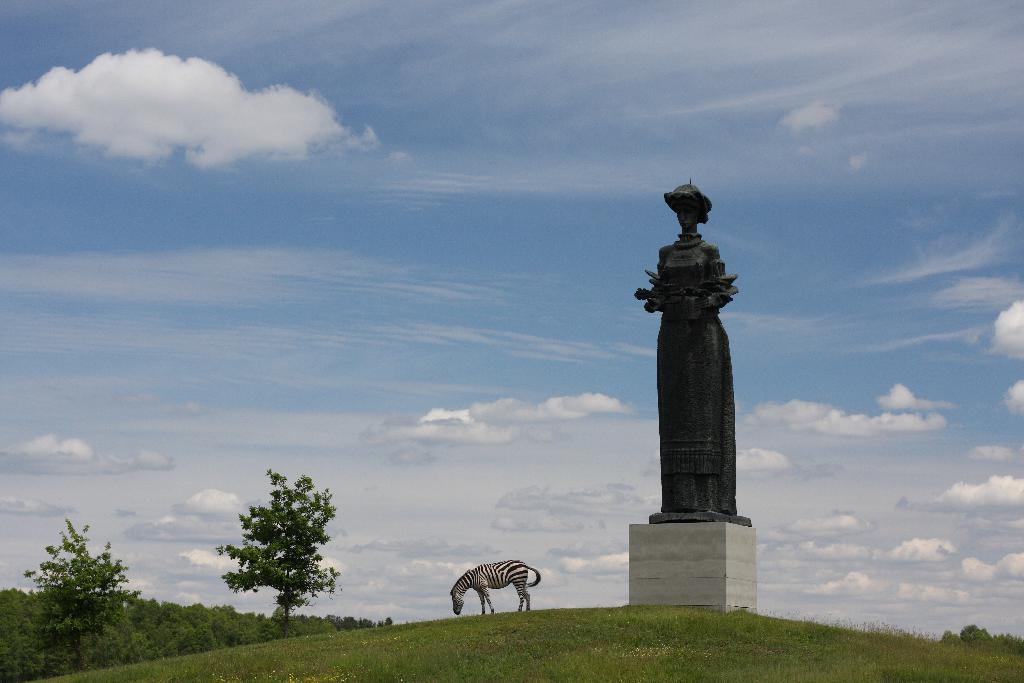Tree: (212, 465, 344, 635), (12, 508, 141, 670)
